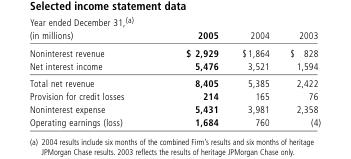table: (28, 28, 320, 127)
table column: (28, 28, 154, 127), (154, 28, 229, 127), (229, 28, 279, 127), (279, 28, 320, 127)
table column header: (28, 28, 320, 43)
table row: (28, 43, 320, 59), (28, 28, 320, 43), (28, 59, 320, 74), (28, 74, 320, 89), (28, 89, 320, 102), (28, 102, 320, 115), (28, 115, 320, 127)
